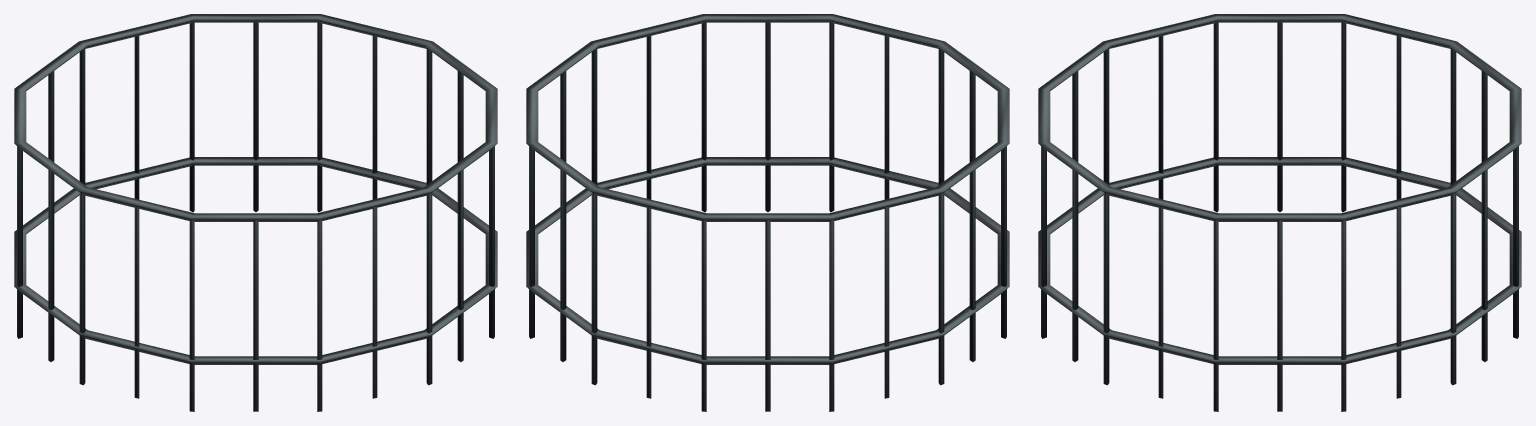
File: TSP_Fence_Circular_01A.fbx
3 views of the same model, side by side, from view 1: azimuth 30°, elevation 25°; view 2: azimuth 150°, elevation 25°; view 3: azimuth 270°, elevation 25° (orthographic).
Visible parts, largest first — view 1: TSP_Fence_Circular_01A; view 2: TSP_Fence_Circular_01A; view 3: TSP_Fence_Circular_01A.
Part boxes in pixels (bbox=[...]): TSP_Fence_Circular_01A: bbox=[14, 14, 497, 411]; TSP_Fence_Circular_01A: bbox=[526, 14, 1009, 411]; TSP_Fence_Circular_01A: bbox=[1038, 14, 1521, 411].
Size of the model in its own units: 2.83 by 1.26 by 2.83.
